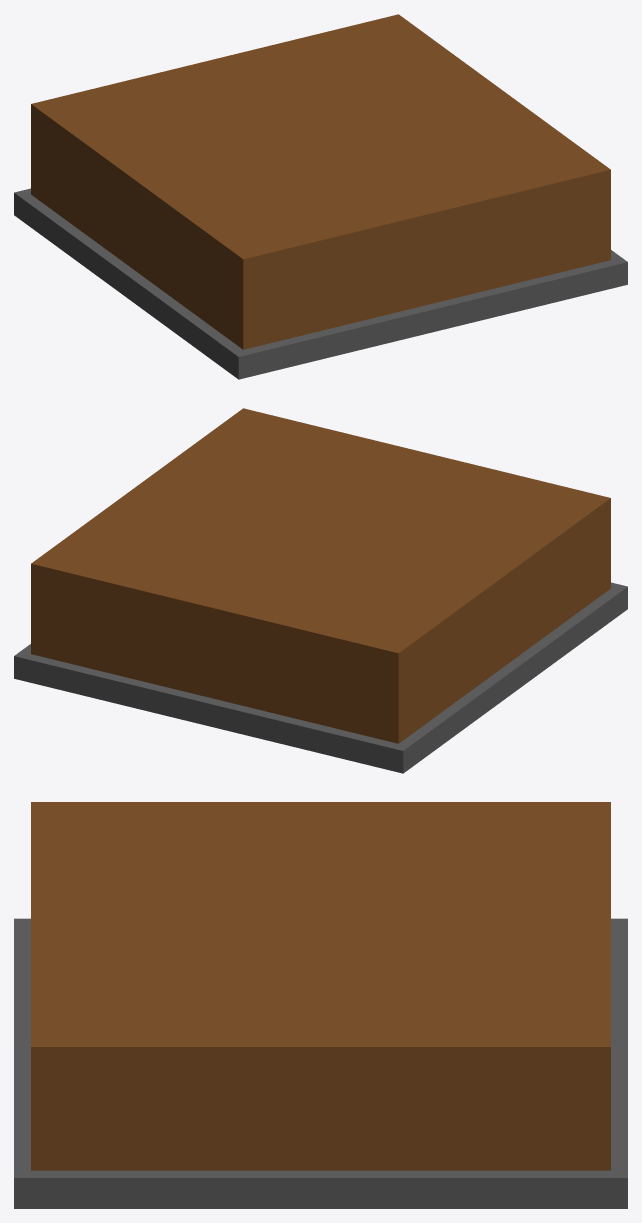
3 views of the same model, one above another, from view 1: azimuth 30°, elevation 25°; view 2: azimuth 150°, elevation 25°; view 3: azimuth 270°, elevation 25° (orthographic). The views are drawn at different scales.
Visible parts, largest first — view 1: Box (×2); view 2: Box (×2); view 3: Box (×2).
Part boxes in pixels (<box>): Box (×2): <box>14,14,627,379</box>; Box (×2): <box>14,408,627,773</box>; Box (×2): <box>14,802,627,1208</box>.
Size of the model in its own units: 1.8 by 0.4999 by 1.8.
